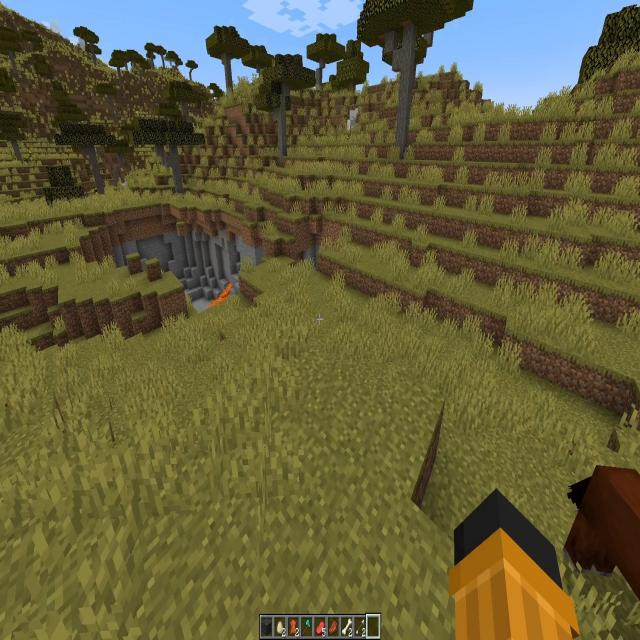Horse: (568, 468, 640, 595)
Sheep: (349, 119, 356, 130), (350, 109, 358, 118)
